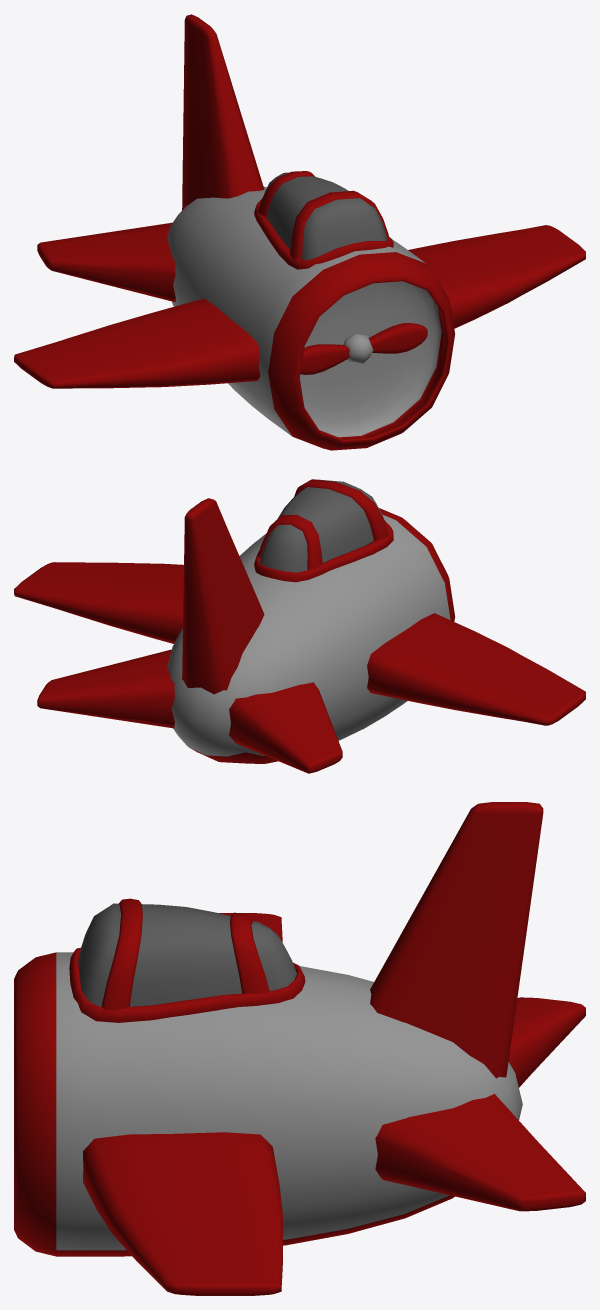
The picture shows the model from 3 angles, top to bottom: view 1: azimuth 30°, elevation 25°; view 2: azimuth 150°, elevation 25°; view 3: azimuth 270°, elevation 25°; orthographic projection. The views are drawn at different scales.
Visible parts, largest first — view 1: Plane_Body, Plane_Propeller; view 2: Plane_Body; view 3: Plane_Body.
Part boxes in pixels (x1=…): Plane_Body: x1=14, y1=14, x2=585, y2=450; Plane_Propeller: x1=300, y1=323, x2=427, y2=374; Plane_Body: x1=14, y1=479, x2=585, y2=773; Plane_Body: x1=14, y1=802, x2=585, y2=1295.
Size of the model in its own units: 415 by 226 by 268.
